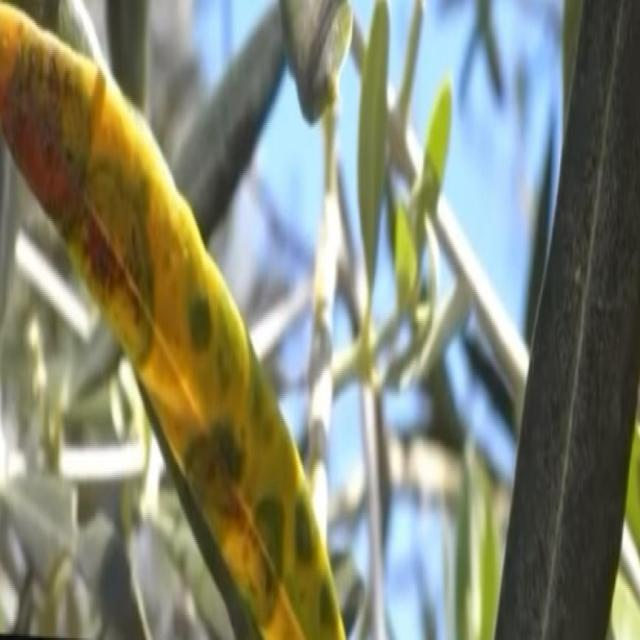Peacock Eye: (0, 2, 344, 636)
